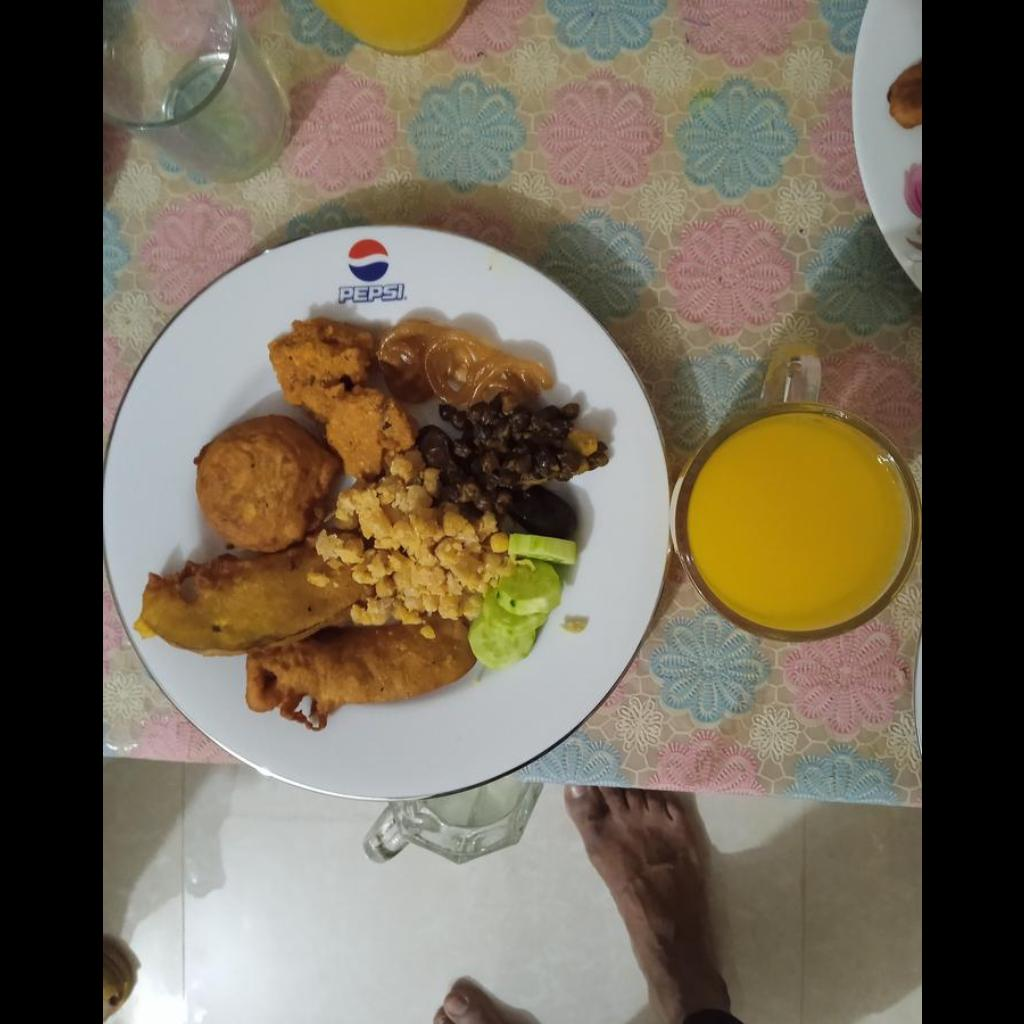beguni: (133, 545, 476, 731)
chola: (415, 397, 607, 514)
chop-alu: (196, 412, 340, 552)
cucumber: (468, 534, 575, 669)
daal: (312, 477, 510, 625)
jilapi: (375, 319, 551, 408)
juice: (689, 421, 904, 634)
peyaju: (264, 310, 414, 478)
